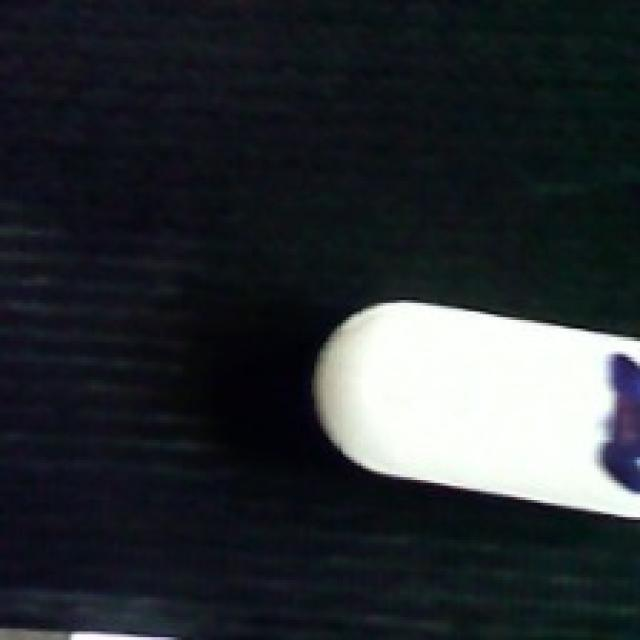defected: (308, 301, 640, 515)
